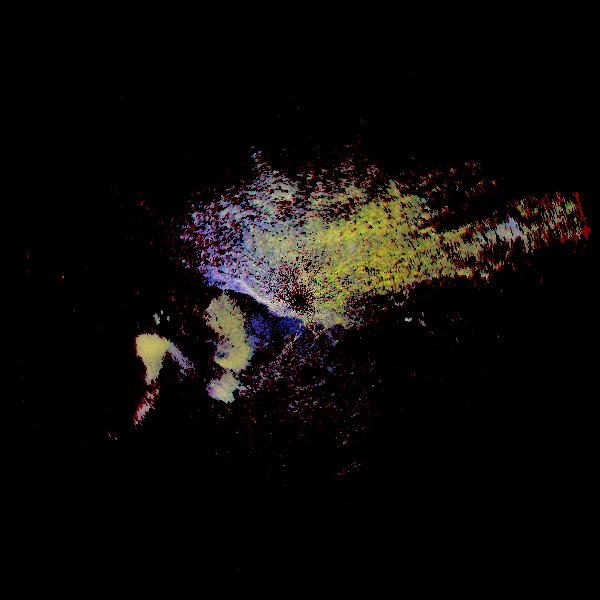roost: (91, 266, 262, 437), (33, 303, 183, 453)
